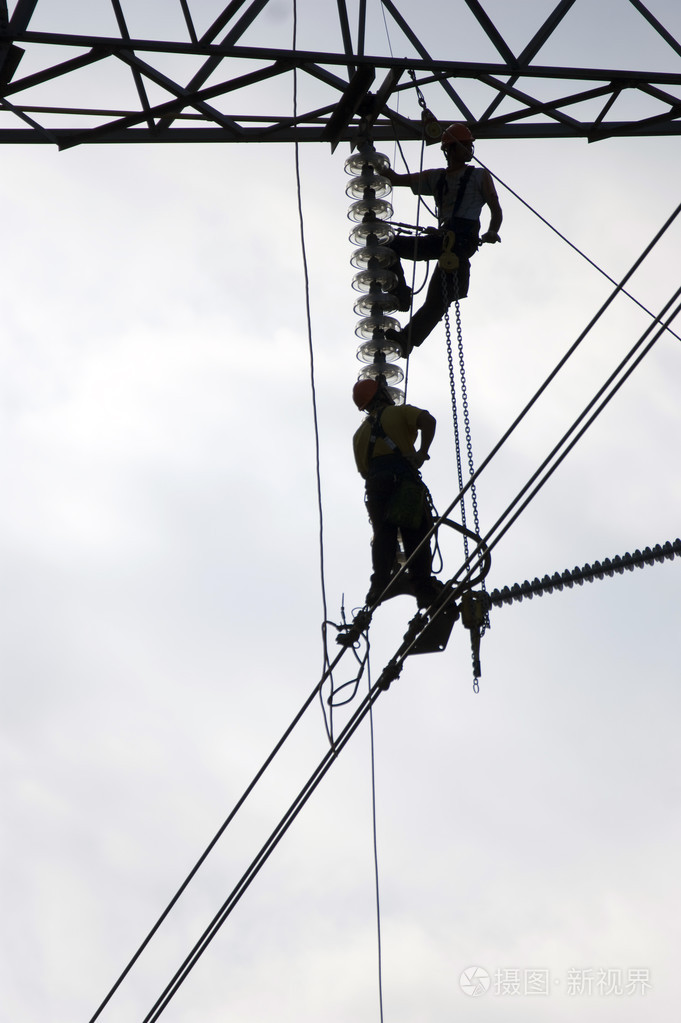insulator: (334, 147, 408, 398), (487, 543, 681, 604)
